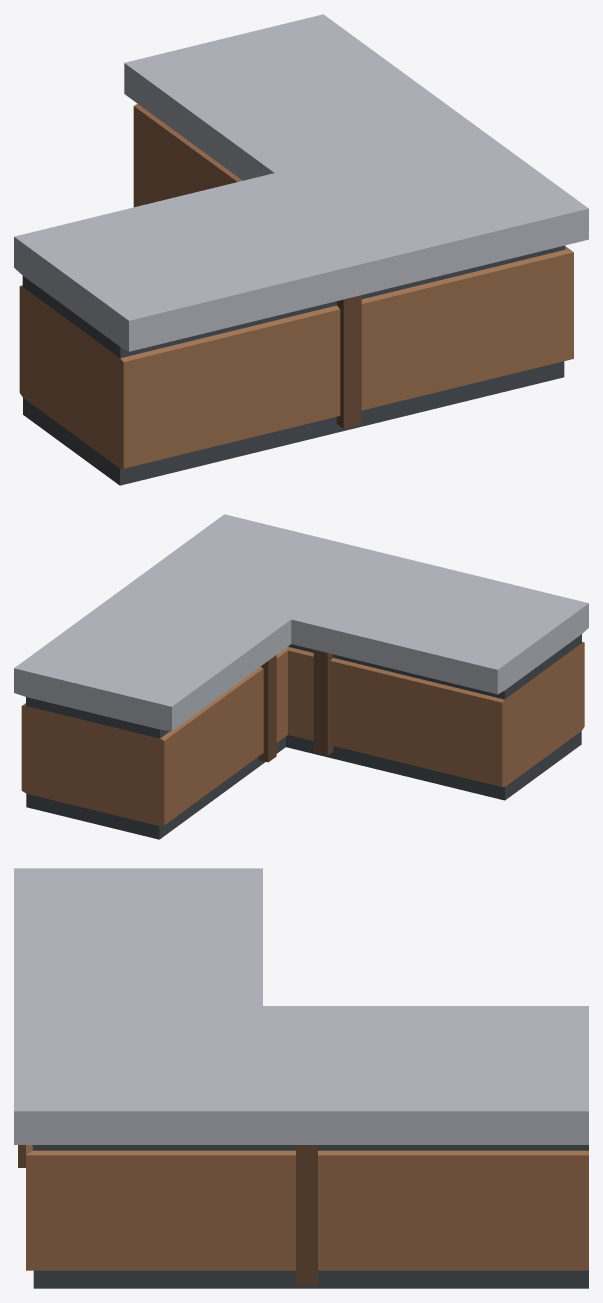
File: SM_Prop_Kitchen_Counter_Corner_01.obj
The picture shows the model from 3 angles, top to bottom: view 1: azimuth 30°, elevation 25°; view 2: azimuth 150°, elevation 25°; view 3: azimuth 270°, elevation 25°; orthographic projection. The views are drawn at different scales.
Visible parts, largest first — view 1: SM_Prop_Kitchen_Counter_Corner_01_0; view 2: SM_Prop_Kitchen_Counter_Corner_01_0; view 3: SM_Prop_Kitchen_Counter_Corner_01_0.
Boxes of the visible parts, <box> form: SM_Prop_Kitchen_Counter_Corner_01_0: <box>14,14,588,485</box>; SM_Prop_Kitchen_Counter_Corner_01_0: <box>14,514,588,839</box>; SM_Prop_Kitchen_Counter_Corner_01_0: <box>14,868,588,1288</box>.
Size of the model in its own units: 2.55 by 0.9096 by 2.55.
1 material, 1 textured.
